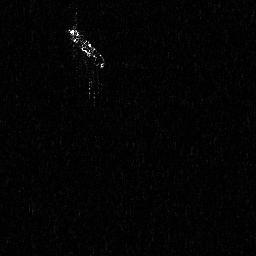ship: (64, 22, 109, 71)
